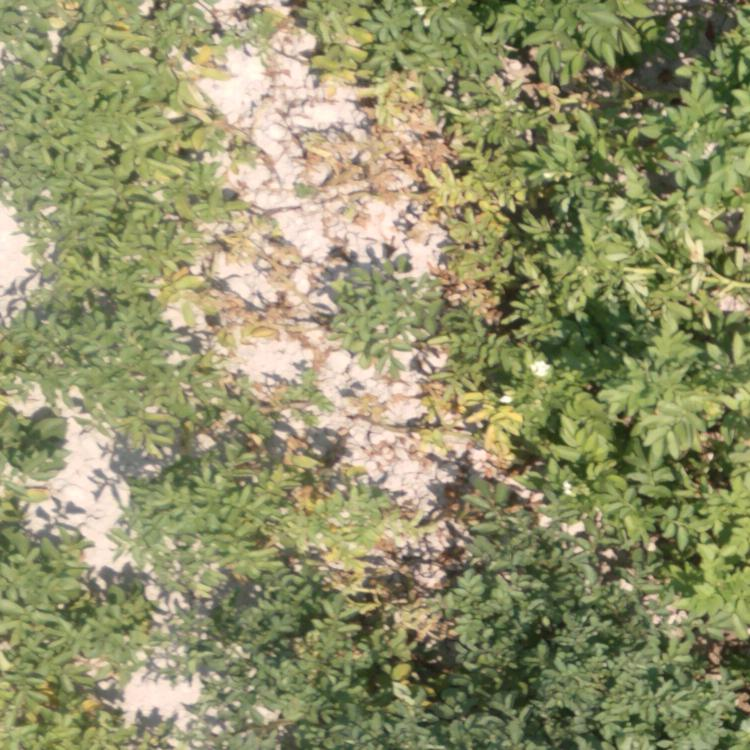healthy: (565, 20, 745, 527), (459, 537, 746, 750), (1, 1, 161, 246), (199, 605, 400, 750), (1, 532, 132, 749), (1, 254, 164, 403)
stressed: (157, 405, 440, 586), (325, 232, 558, 420), (176, 19, 271, 339), (381, 85, 563, 225), (287, 1, 550, 77), (4, 413, 55, 495)
